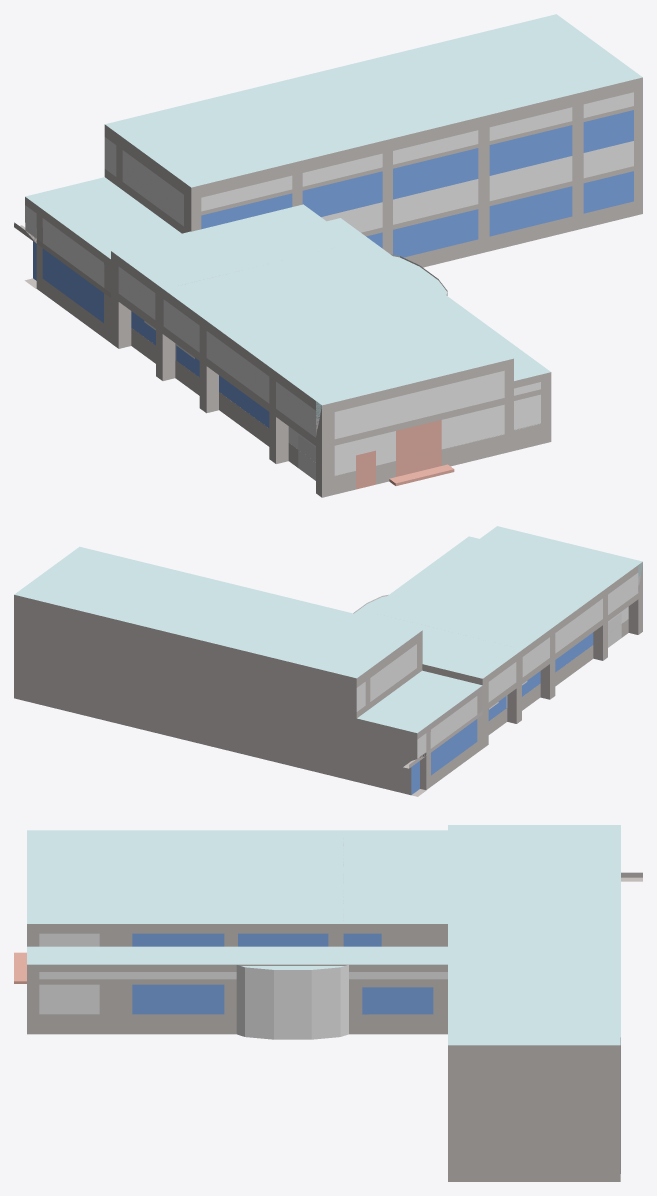
Rendered from sande.glb.
3 views of the same model, one above another, from view 1: azimuth 30°, elevation 25°; view 2: azimuth 150°, elevation 25°; view 3: azimuth 270°, elevation 25° (orthographic). The views are drawn at different scales.
Parts seen in each view (by area): view 1: 立方体.031, 立方体.001, 立方体.402, 立方体.404; view 2: 立方体.031, 立方体.001, 立方体.402, 立方体.404; view 3: 立方体.001, 立方体.031, 平面.005.
Boxes of the visible parts, box(x1,y1,x2,y2) form: 立方体.031: box(14, 14, 642, 342); 立方体.001: box(111, 204, 551, 497); 立方体.402: box(199, 361, 218, 413); 立方体.404: box(156, 329, 175, 380); 立方体.031: box(14, 546, 482, 796); 立方体.001: box(361, 526, 642, 748); 立方体.402: box(540, 660, 555, 699); 立方体.404: box(507, 685, 521, 723); 立方体.001: box(27, 830, 447, 1034); 立方体.031: box(448, 825, 642, 1181); 平面.005: box(236, 965, 348, 1039).
Size of the model in its own units: 10.9 by 2.67 by 11.17.
Materials: 1 (1 with a texture image).
